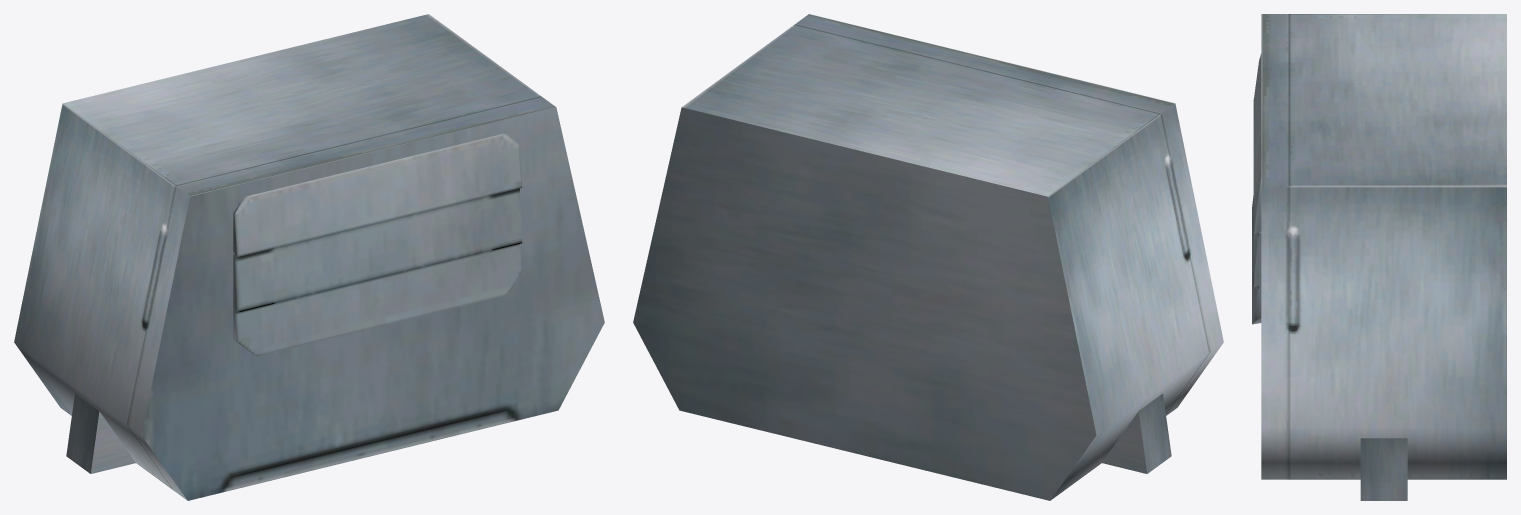
The model's file is frn_all_tech_cabinet_s01_l0.fbx.
The picture shows the model from 3 angles, left to right: view 1: azimuth 30°, elevation 25°; view 2: azimuth 150°, elevation 25°; view 3: azimuth 270°, elevation 25°; orthographic projection. The views are drawn at different scales.
Parts seen in each view (by area): view 1: mesh_node; view 2: mesh_node; view 3: mesh_node.
Boxes of the visible parts, x1=… form: mesh_node: x1=14, y1=14, x2=604, y2=500; mesh_node: x1=633, y1=14, x2=1223, y2=500; mesh_node: x1=1252, y1=14, x2=1506, y2=500.
Size of the model in its own units: 1.2 by 0.7507 by 0.5927.
